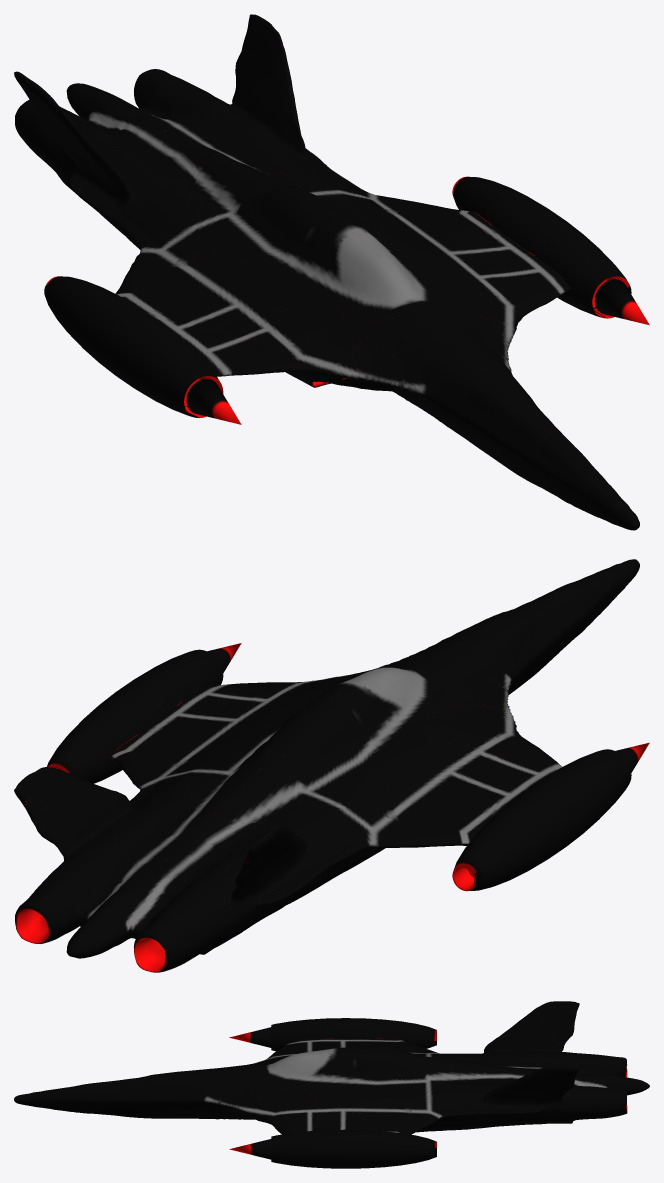
File: HFW_Daemon_Racing_Ship.glb
The picture shows the model from 3 angles, top to bottom: view 1: azimuth 30°, elevation 25°; view 2: azimuth 150°, elevation 25°; view 3: azimuth 270°, elevation 25°; orthographic projection. The views are drawn at different scales.
Visible parts, largest first — view 1: HFW Daemon; view 2: HFW Daemon; view 3: HFW Daemon.
Boxes of the visible parts, <box> form: HFW Daemon: <box>14,14,649,530</box>; HFW Daemon: <box>14,559,649,972</box>; HFW Daemon: <box>14,1001,649,1168</box>.
Size of the model in its own units: 11.92 by 3.69 by 25.
Materials: 1 (1 with a texture image).
